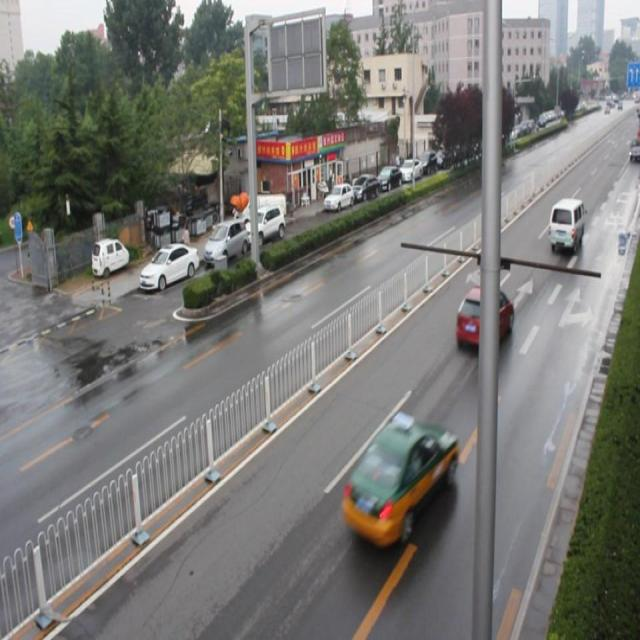car: (341, 413, 456, 545), (454, 285, 514, 354)
truck: (548, 197, 584, 252)
